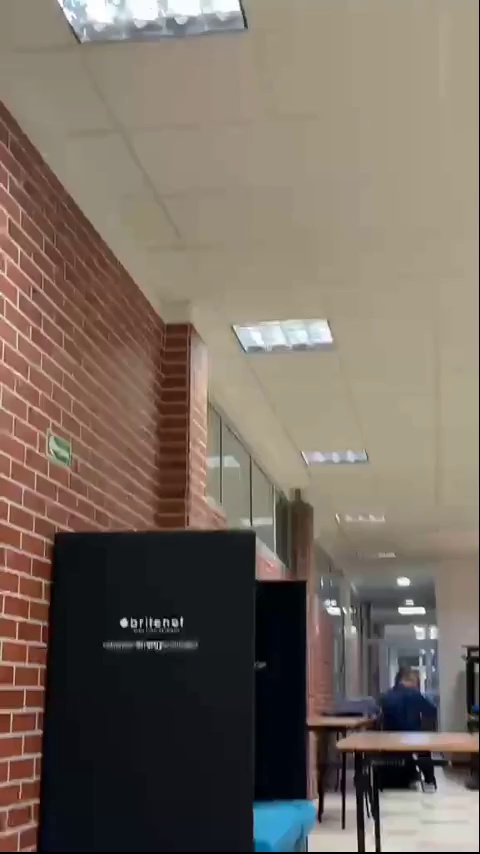no vest: (382, 667, 432, 735)
